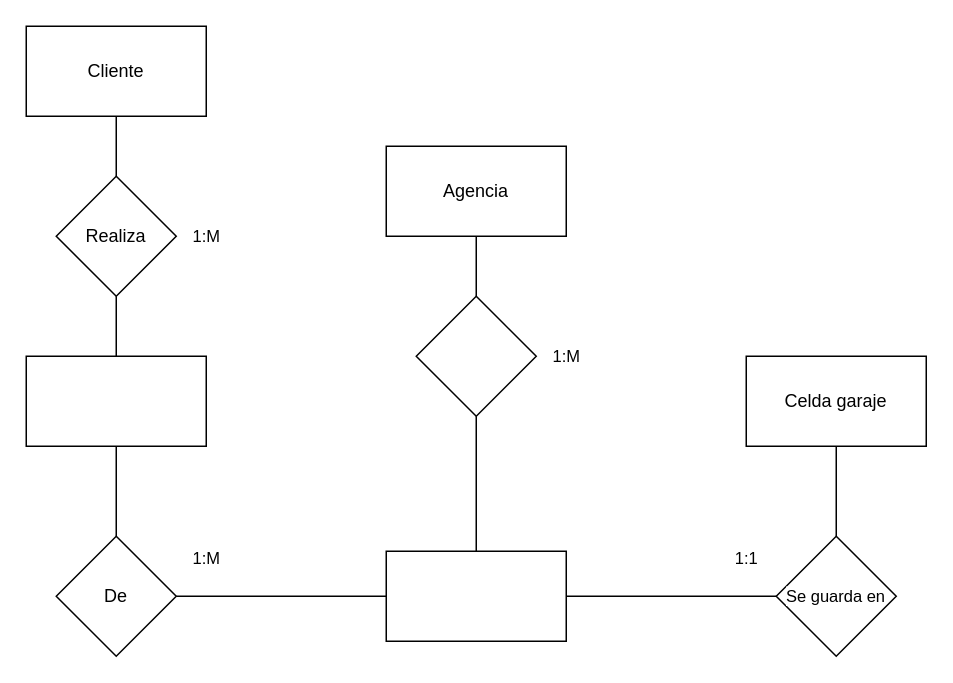
Image size: 953x683. Some labels were removed from this diagram. Each missing label, with the centre of its shape:
Automovil: (475,595)
Pertenece: (475,355)
Reserva: (115,400)
